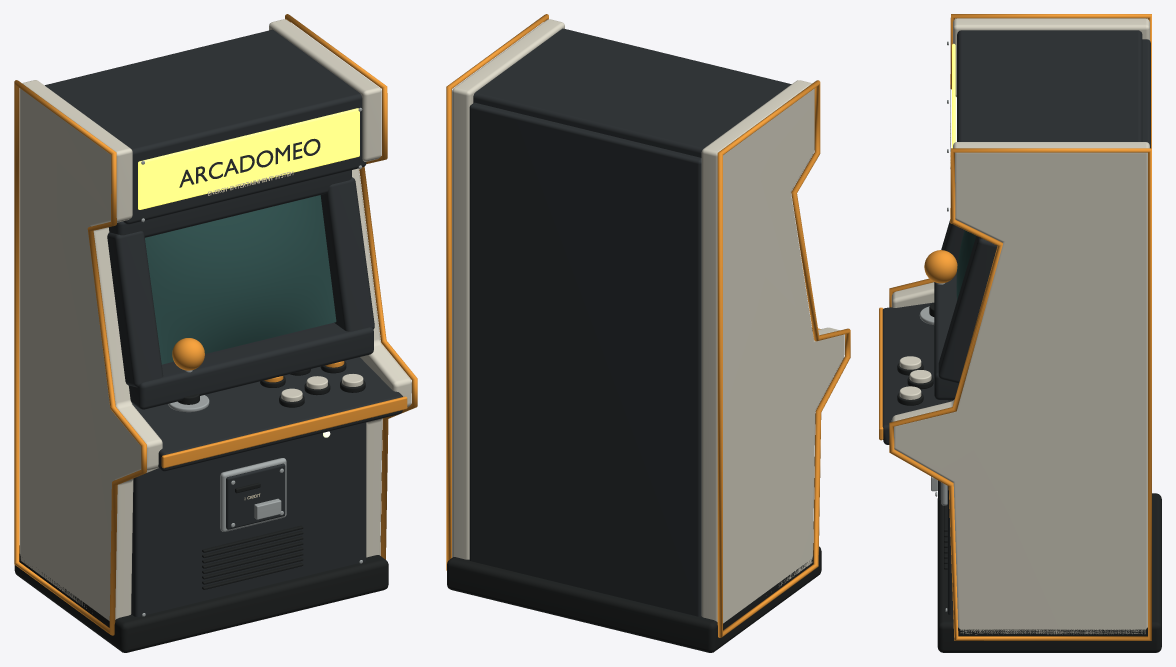
Rendered from arcade-cabinet.glb.
The picture shows the model from 3 angles, left to right: view 1: azimuth 30°, elevation 25°; view 2: azimuth 150°, elevation 25°; view 3: azimuth 270°, elevation 25°; orthographic projection.
Parts seen in each view (by area): view 1: arcade-cabinet_Body, CRT_Surface; view 2: arcade-cabinet_Body; view 3: arcade-cabinet_Body, CRT_Surface.
Part boxes in pixels (<box>): arcade-cabinet_Body: <box>14,14,417,652</box>; CRT_Surface: <box>145,195,336,364</box>; arcade-cabinet_Body: <box>446,14,850,652</box>; arcade-cabinet_Body: <box>879,14,1161,652</box>; CRT_Surface: <box>956,230,975,300</box>.
Size of the model in its own units: 1.91 by 3.3 by 1.66.
